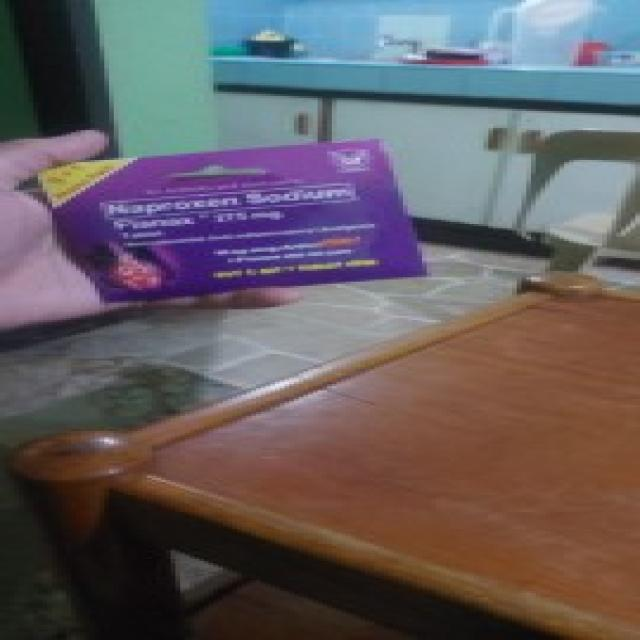Cacat: (31, 134, 429, 301)
